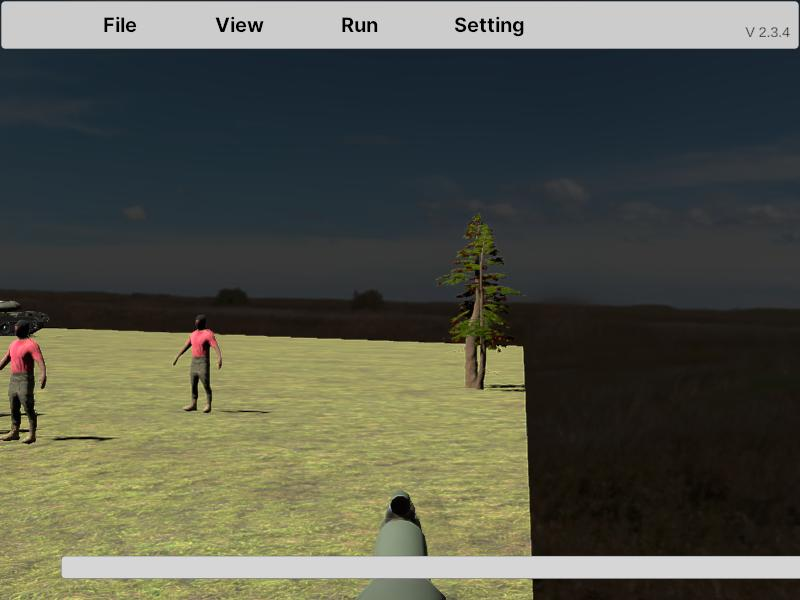Human: (0, 320, 46, 442), (173, 314, 222, 413)
Tank: (0, 297, 49, 337)
